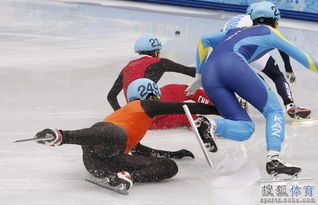falling: (190, 9, 318, 173)
